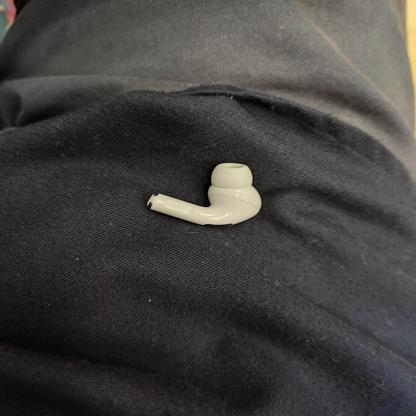Airpods: (125, 168, 271, 236)
